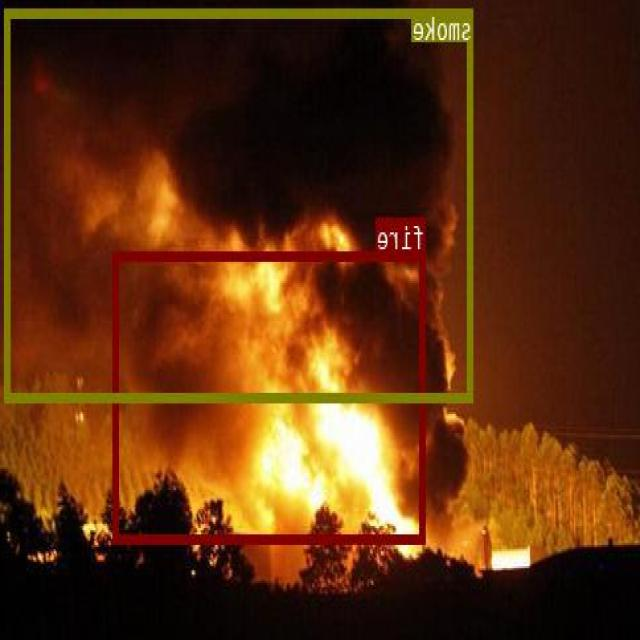fire: (114, 250, 426, 542)
smoke: (6, 8, 475, 400)
